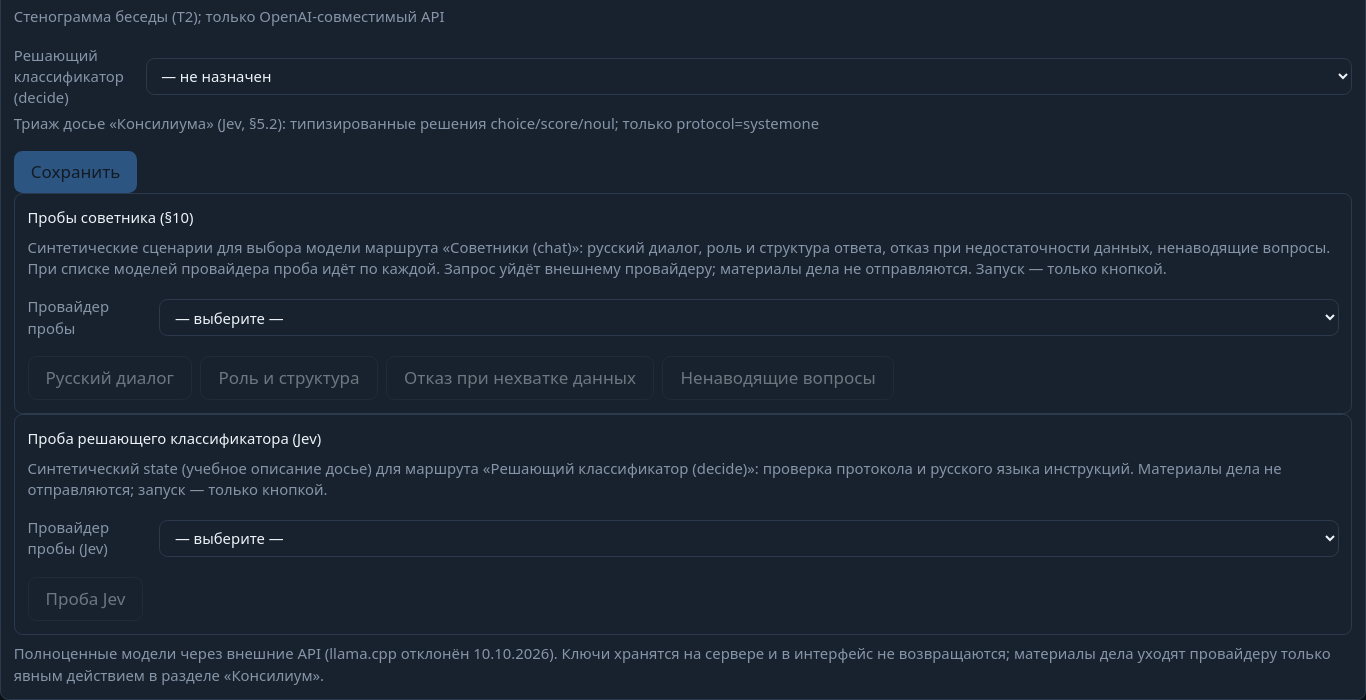
Test: панель «Модельный роутер ИИ» › проба решающего классификатора (Jev) шлётся кнопкой и показывает решения
(page scrolled)
Select "Полная модель" in the dropdown labelled "Провайдер пробы (Jev)" at (749,538), box [159,520,1339,557]
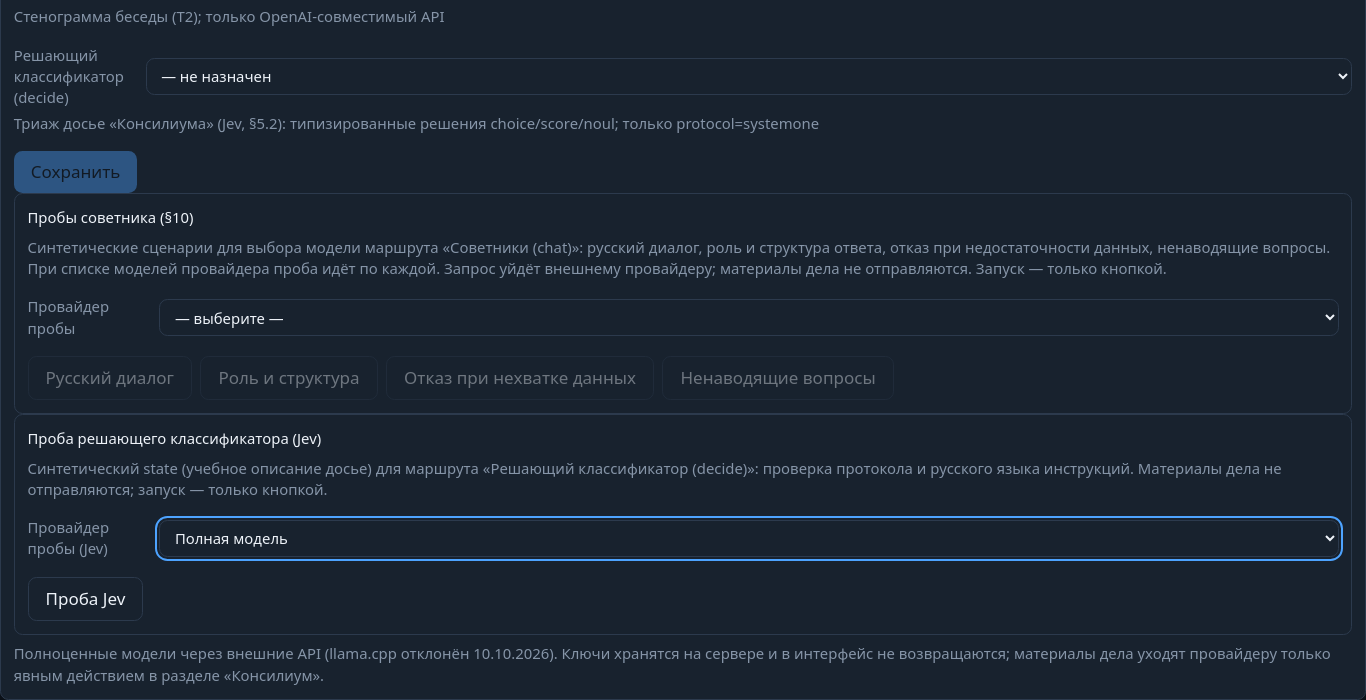
Click the button "Проба Jev".
click(85, 599)  # box [28,576,143,621]
(page scrolled)
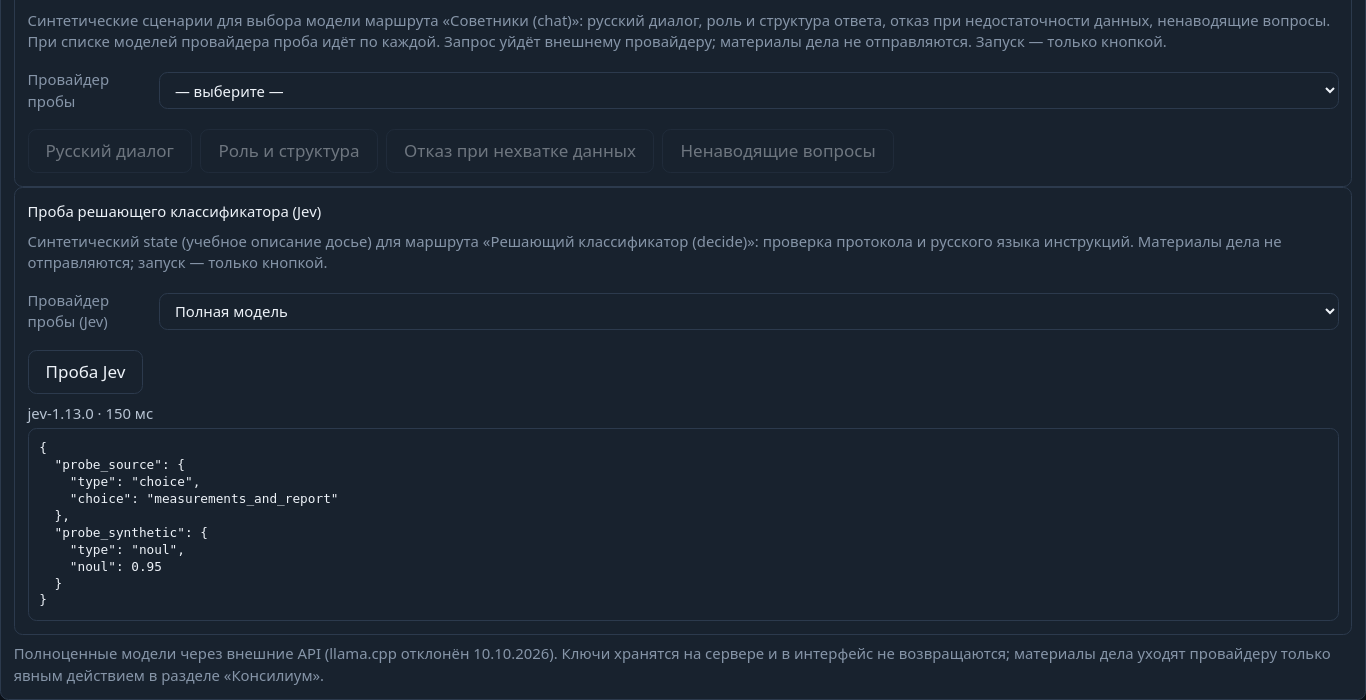
Check: the text "jev-1.13.0 · 150 мс" is shown, box [28,402,153,422]
Check: the text "measurements_and_report" is shown, box [39,440,338,608]
